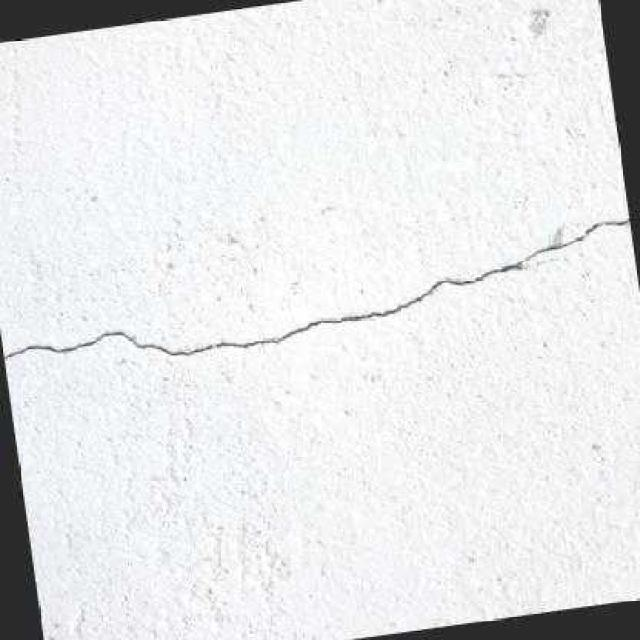D00: (1, 214, 629, 366)
